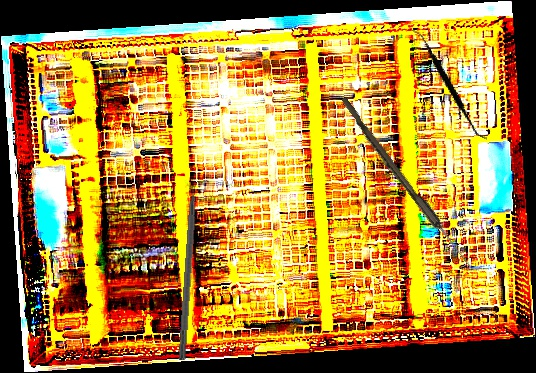Hook Surgical: (178, 170, 201, 361)
Spatula Surgical: (383, 28, 517, 140)
Surgical Spoon: (336, 96, 478, 273)
